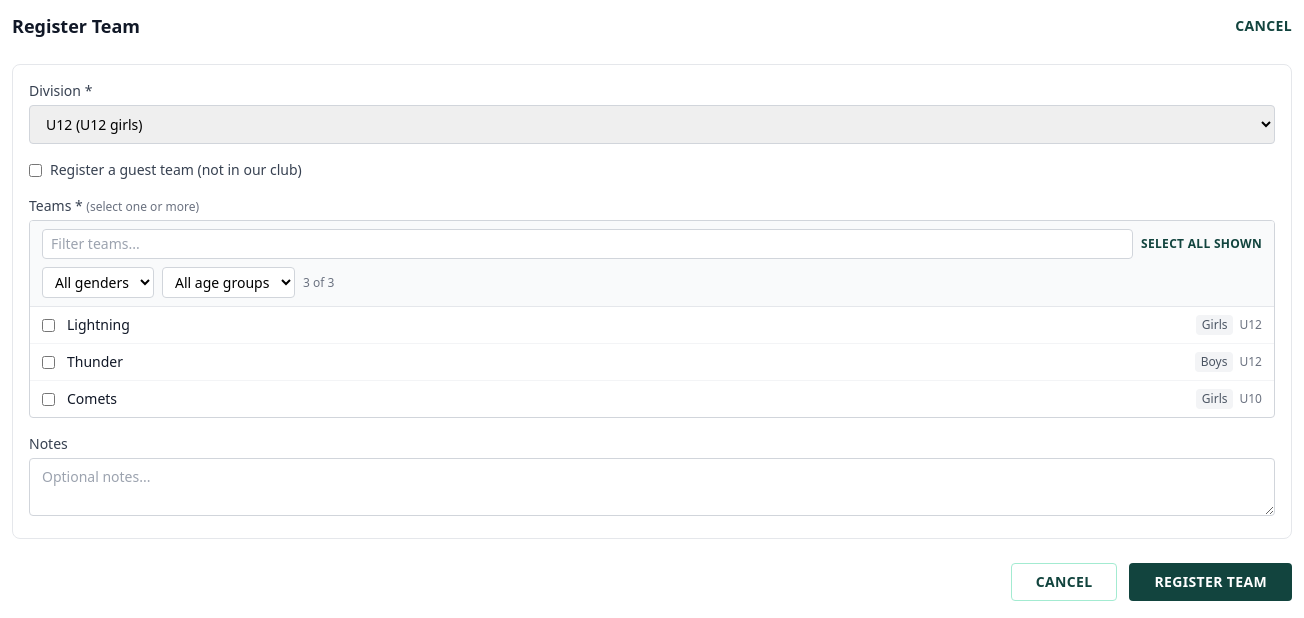
Test case: RegistrationForm team picker › filters by gender and by age group
Expected: the text "Lightning" is shown, x1=67 y1=315 x2=130 y2=335
Select "Girls" in the dropdown named "Filter by gender". click: (98, 282)
box: x1=42 y1=267 x2=154 y2=298
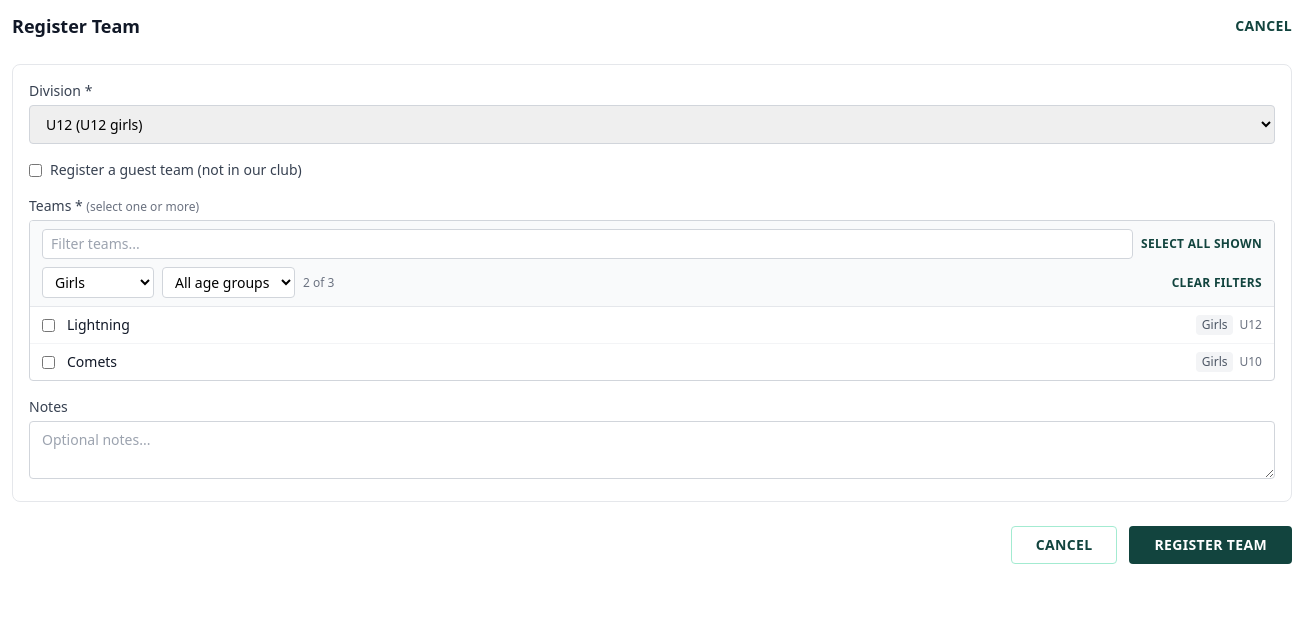
Expected: the text "Comets" is shown, x1=67 y1=352 x2=117 y2=372
Now the text "Thunder" is gone
Select "U12" in the dropdown named "Filter by age group". click: (228, 282)
box: x1=162 y1=267 x2=295 y2=298
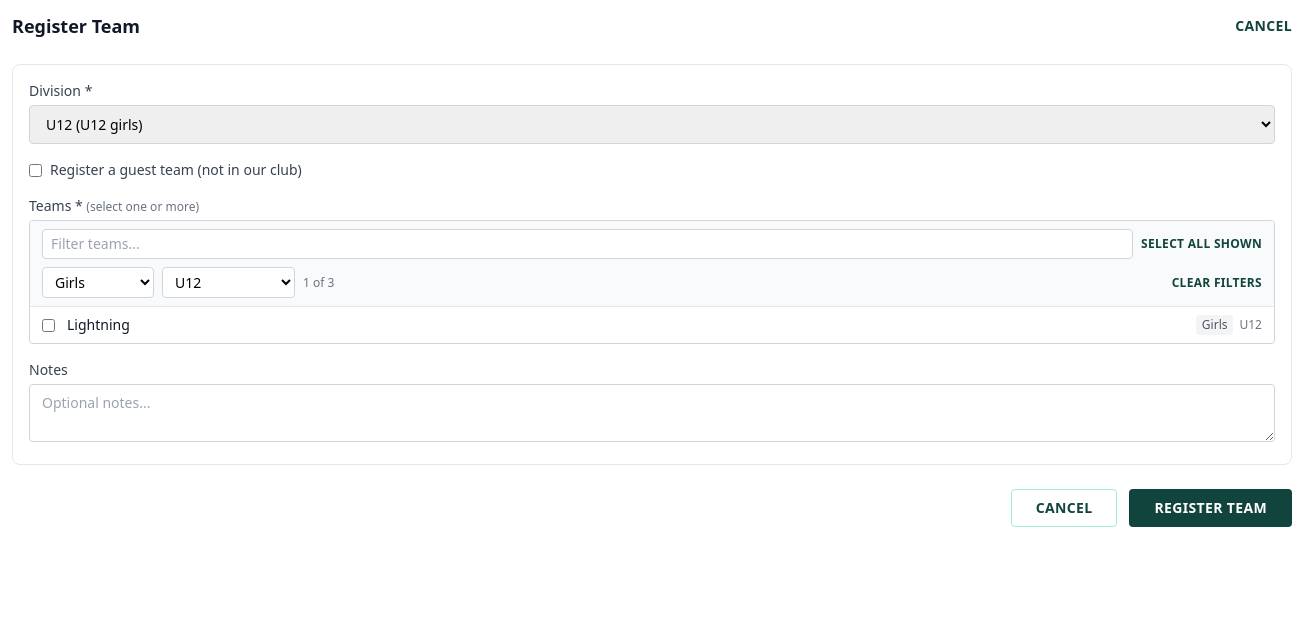
Expected: the text "Lightning" is shown, x1=67 y1=315 x2=130 y2=335
Now the text "Comets" is gone
Click the button "Clear filters". click: (1217, 282)
box: x1=1172 y1=274 x2=1262 y2=290
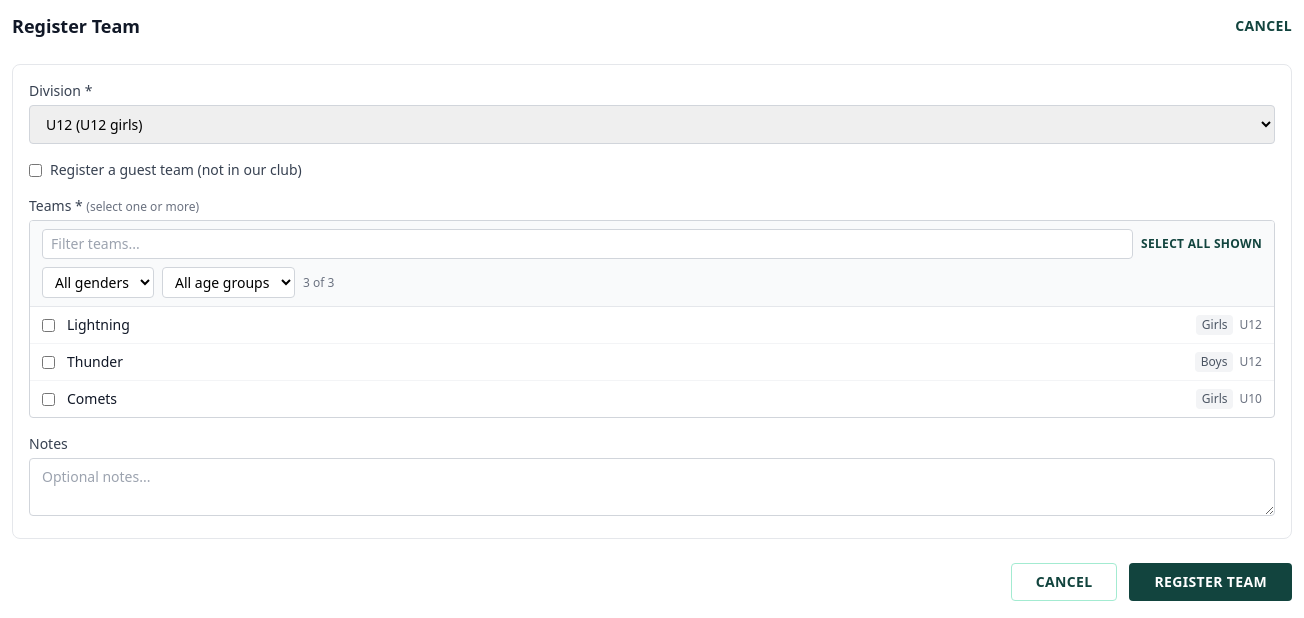
Now the text "Thunder" is shown, box x1=67 y1=352 x2=123 y2=372
